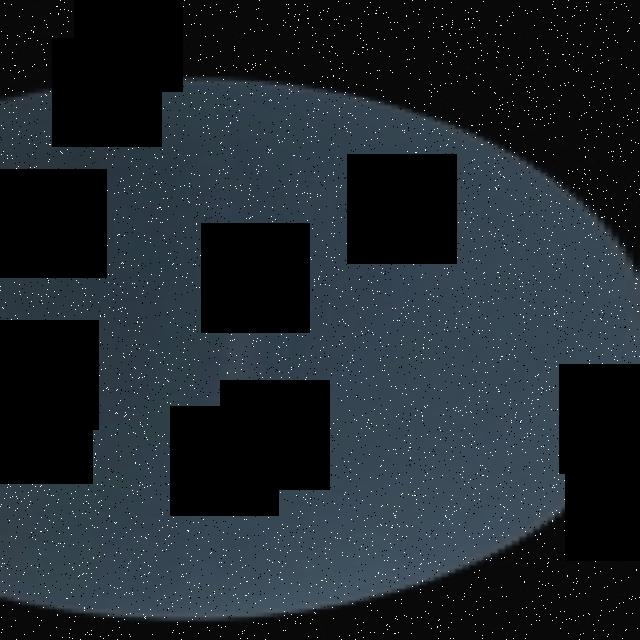Uranus: (0, 76, 640, 624)
